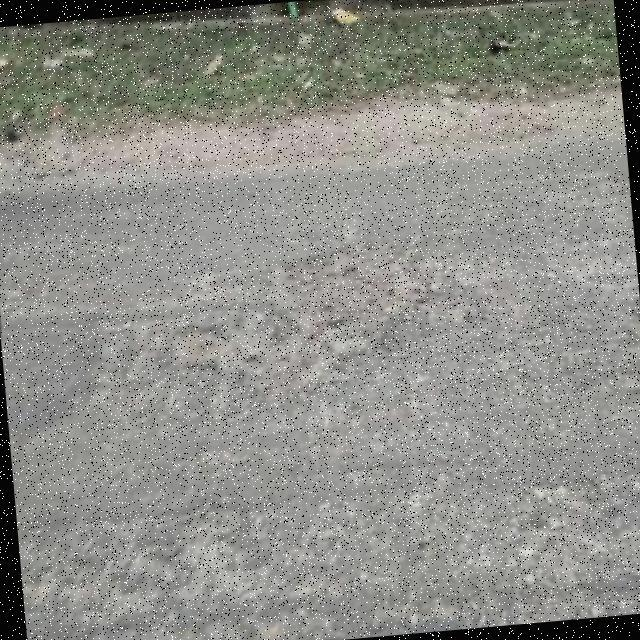Pothole: (185, 250, 425, 385)
